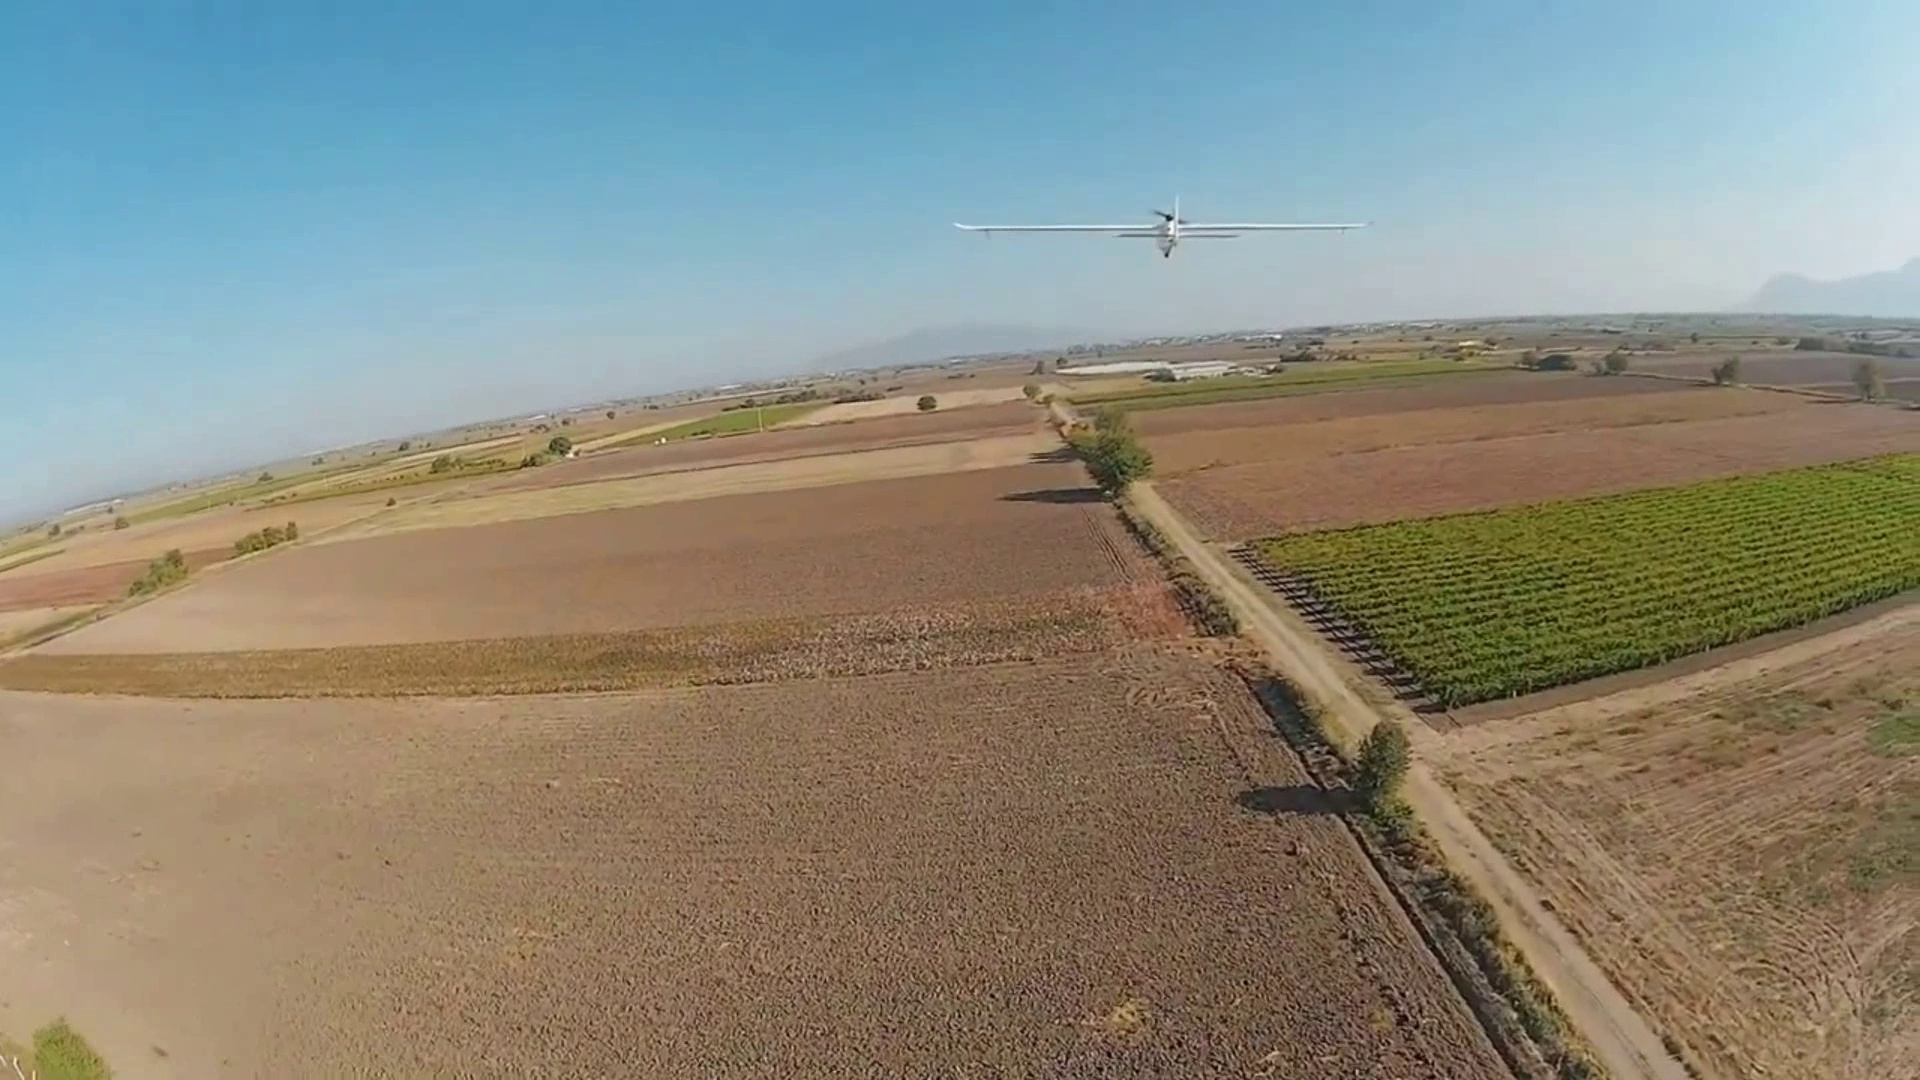airplane: (952, 204, 1364, 253)
